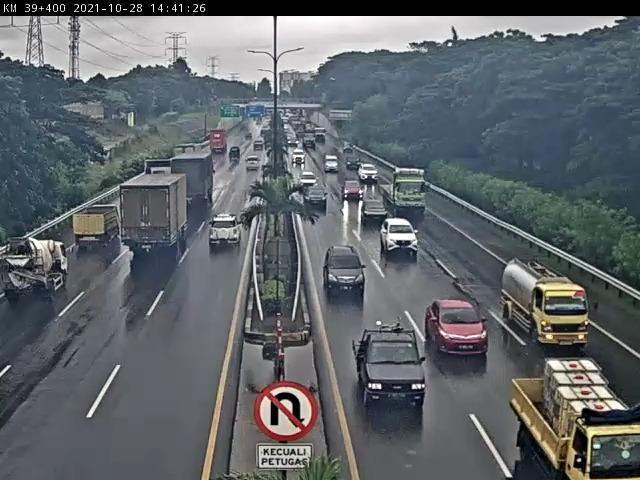car: (354, 324, 429, 411), (424, 301, 491, 358), (324, 245, 367, 297), (381, 220, 419, 259), (210, 214, 245, 248), (361, 200, 389, 227), (306, 186, 329, 212), (341, 181, 365, 202)
truck: (501, 259, 591, 348), (119, 174, 189, 249), (1, 238, 69, 301), (379, 168, 428, 215), (172, 154, 215, 205), (73, 206, 121, 249), (134, 159, 174, 192)
